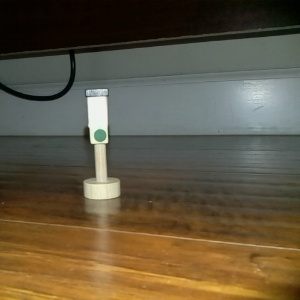traffic light green: (80, 87, 123, 201)
